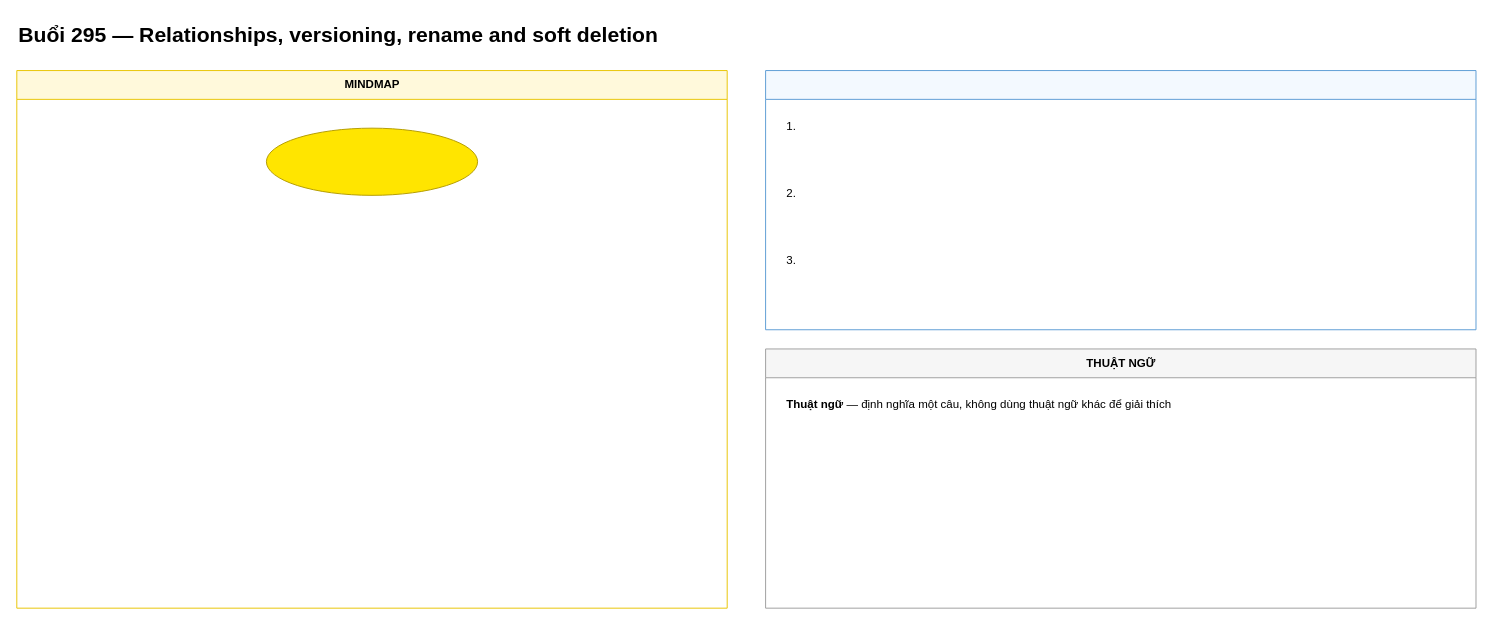
The diagram is 1493 pixels wide and 625 high, and some of its shapes have lost their labels. The shapes that lost their labels are listed below. From the top down, each one's box as (x1, y1, x2, y2) in pixels, then its label:
(265, 127, 478, 195): Relationships, versioning, rename and soft deletion
(765, 70, 1476, 330): KEY TAKEAWAY — ba điều phải nhớ
